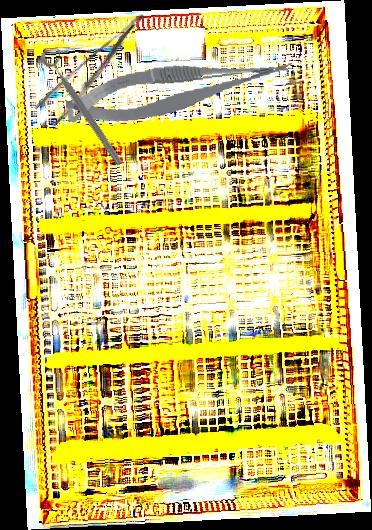Dressing Forceps: (32, 11, 161, 129)
Fixation Ring: (37, 43, 133, 169)
Micro Scissor: (62, 52, 297, 129)
